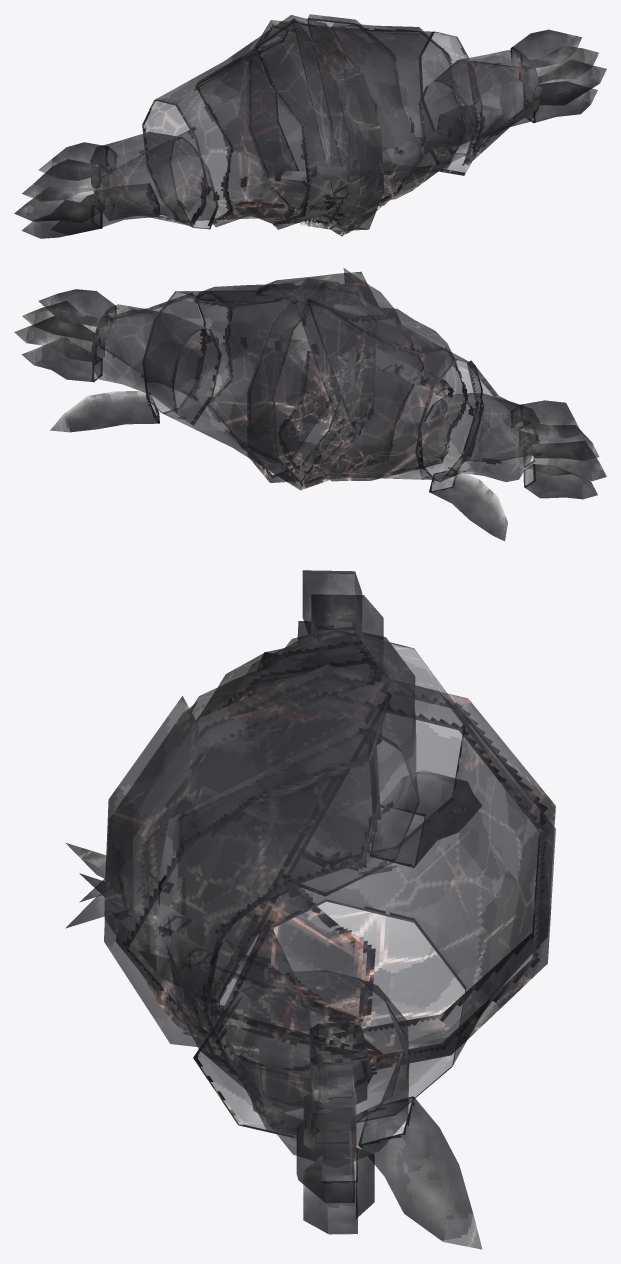
The model's file is gantelets_obsidienne.glb.
3 views of the same model, one above another, from view 1: azimuth 30°, elevation 25°; view 2: azimuth 150°, elevation 25°; view 3: azimuth 270°, elevation 25° (orthographic). The views are drawn at different scales.
Parts seen in each view (by area): view 1: gantelets_obsidienne.001; view 2: gantelets_obsidienne.001; view 3: gantelets_obsidienne.001.
Boxes of the visible parts, x1,y1,x2,y2 form: gantelets_obsidienne.001: [14, 14, 606, 238]; gantelets_obsidienne.001: [14, 268, 606, 541]; gantelets_obsidienne.001: [65, 570, 555, 1249].
Size of the model in its own units: 0.8379 by 0.2673 by 0.3004.
Materials: 2 (2 with a texture image).
